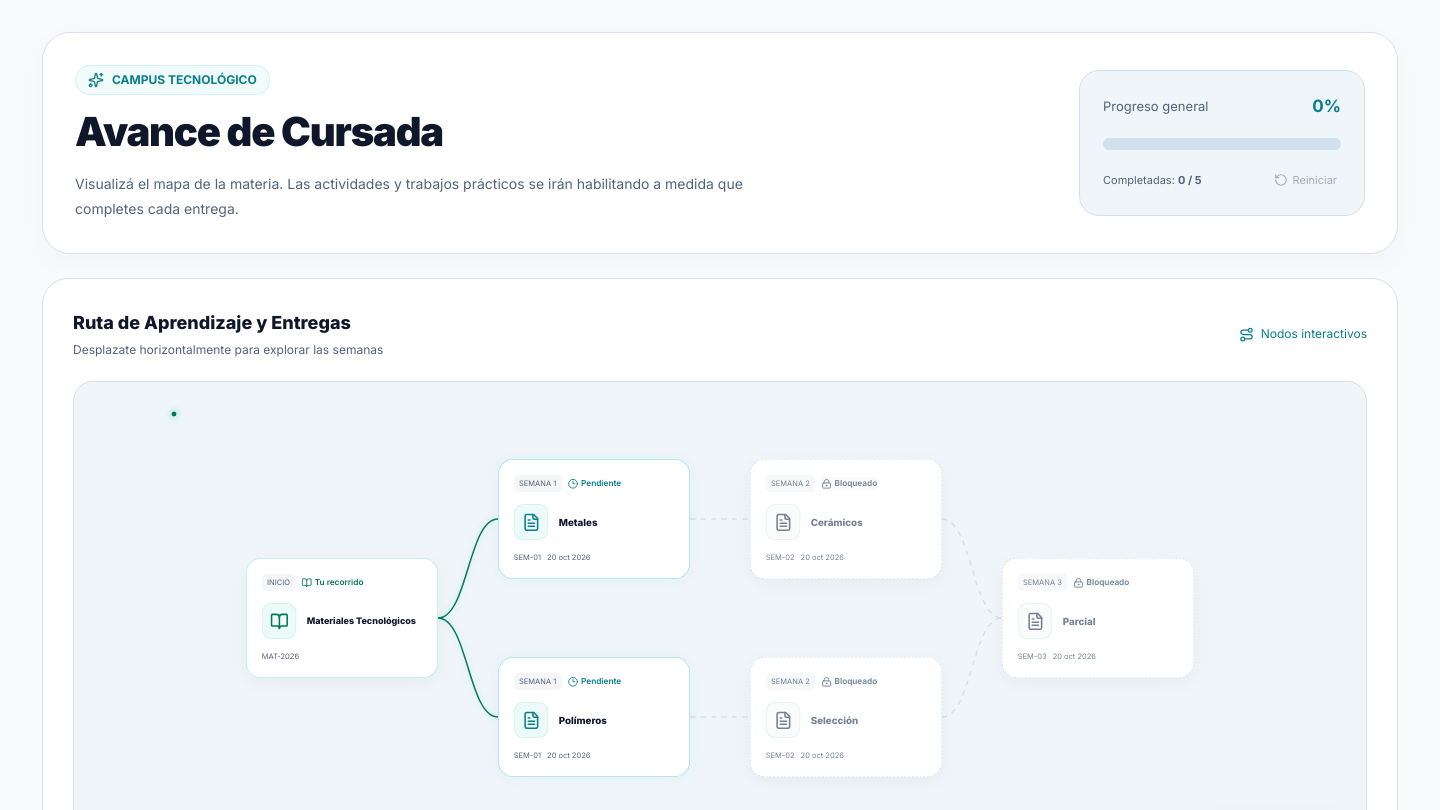
mapa de avance integrado › guarda una entrega, recalcula progreso y habilita sólo la rama correspondiente
What coordinates should you click on to do the following:
click the button with aria-label "Metales — Pendiente"
I would click on:
 (594, 519)
Its box is [498,459,690,579].
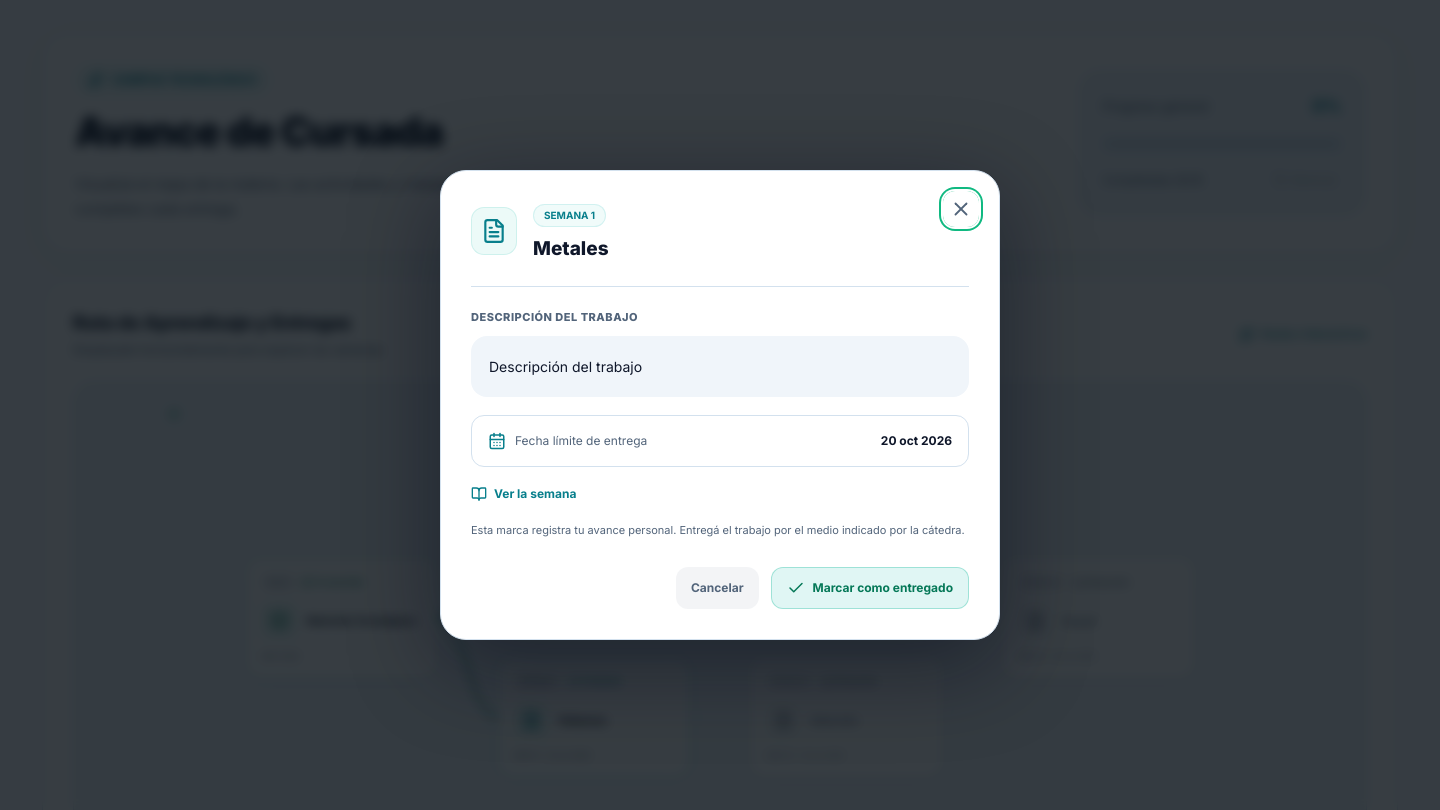
Expected: the text "Descripción del trabajo" is shown, [489,358,642,375]
What coordinates should you click on to do the following:
click the button "Marcar como entregado"
I would click on:
 (870, 588)
Its box is [771,568,969,610].
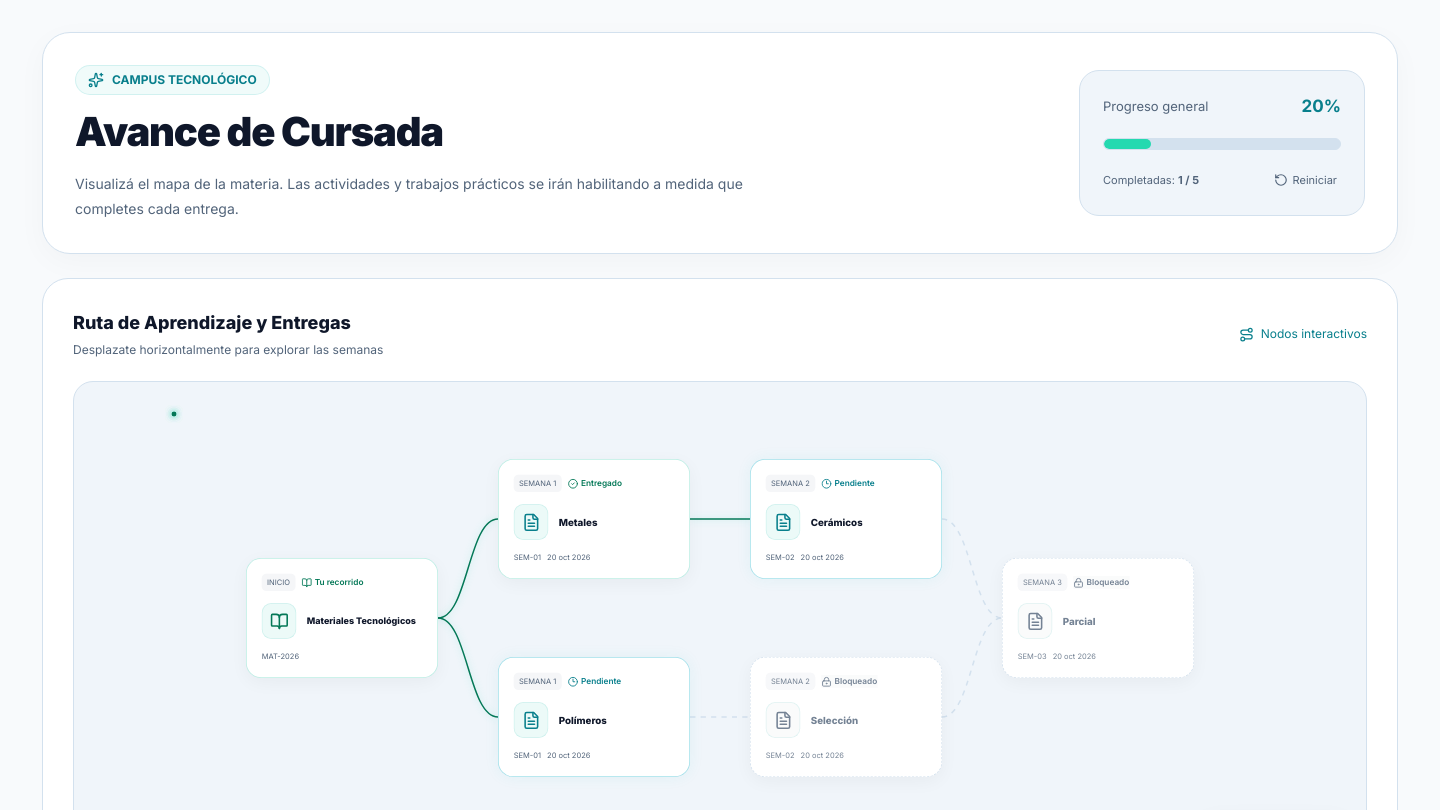
Expected: the button with aria-label "Metales — Entregado" is shown, [498,459,690,579]
